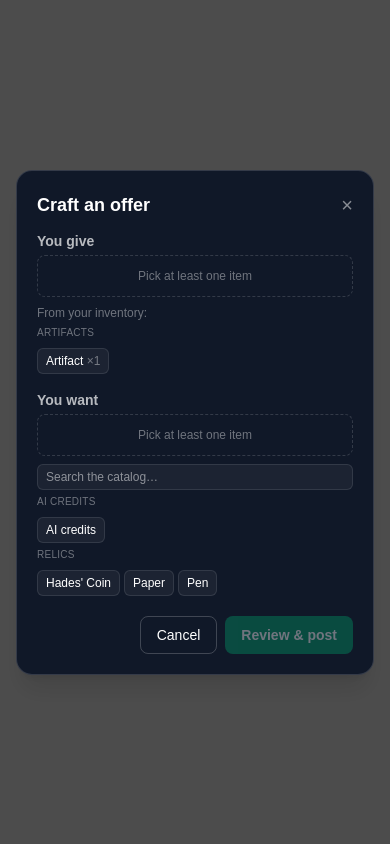
Scenario: CraftOfferModal -- Paper + Pen -> Artifact › tells the Artifact holder in red what a Transcribe does and does not do
Click the button "Artifact ×1": click(73, 360) [37,348,109,374]
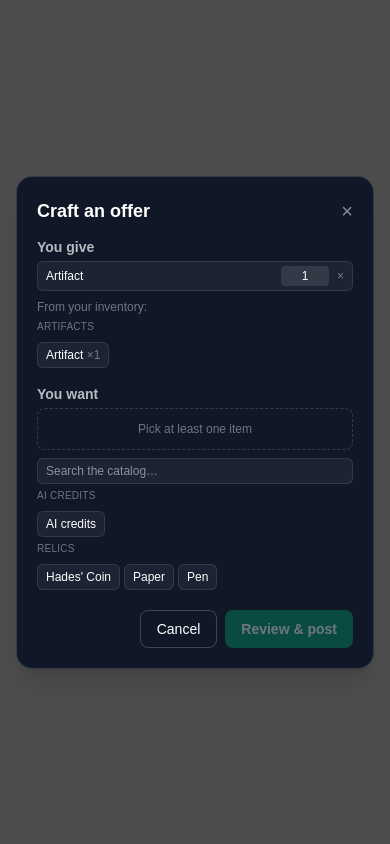
Click the button "Paper": click(149, 576) [124,564,174,590]
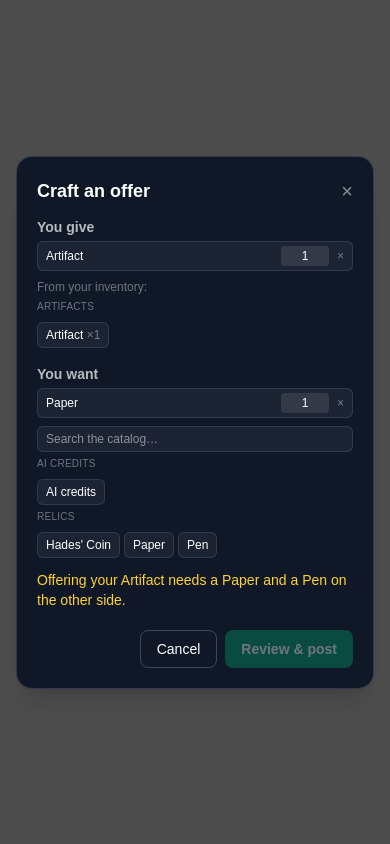
Click the button "Pen": click(198, 544) [178,532,217,558]
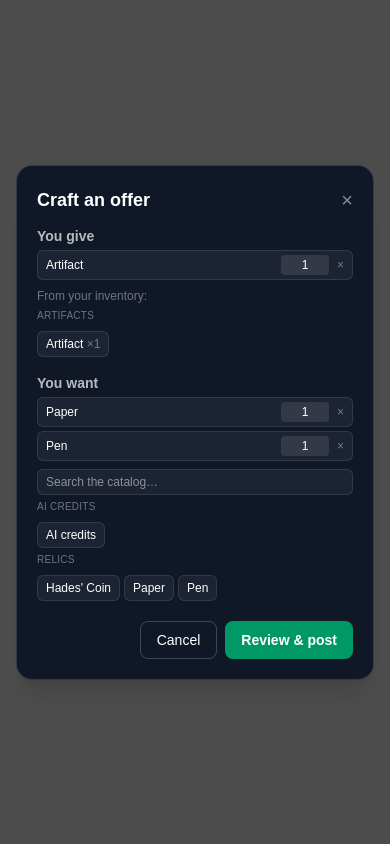
Click the button "Review & post": click(289, 640) [225,620,353,658]
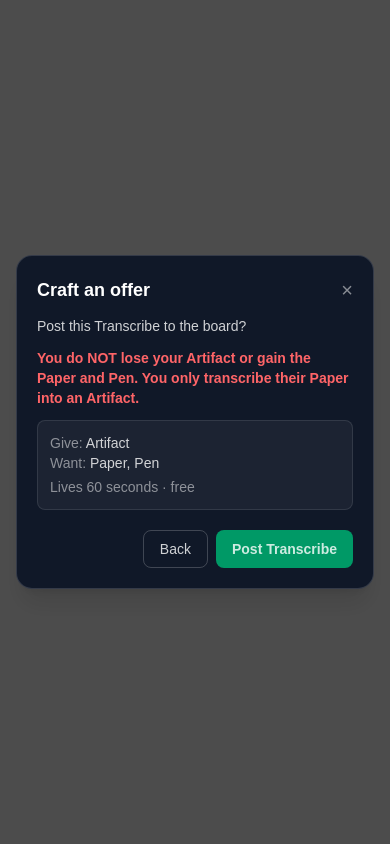
Expected: the button "Post Transcribe" is shown, [216,530,353,568]
